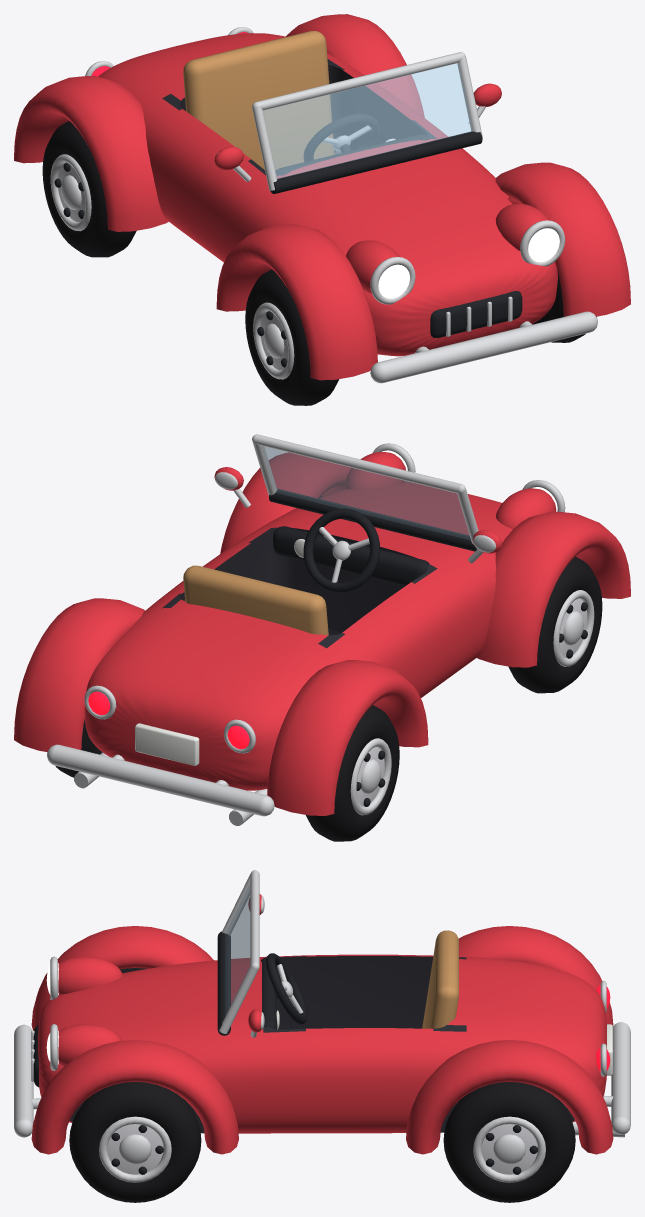
File: carro.glb
3 renders of one model, top to bottom at view 1: azimuth 30°, elevation 25°; view 2: azimuth 150°, elevation 25°; view 3: azimuth 270°, elevation 25°, orthographic. The views are drawn at different scales.
Parts seen in each view (by area): view 1: Carroceria, Parabrisas, Guardabarros_FR, Asiento_Respaldo, Guardabarros_RR, Guardabarros_FL, Parabrisas_Marco, Rueda_RR, Rueda_FR, Parachoques_Delantero, Guardabarros_RL, Parrilla (+11 smaller); view 2: Carroceria, Guardabarros_RR, Guardabarros_FR, Guardabarros_RL, Parabrisas, Rueda_FR, Rueda_RR, Parabrisas_Marco, Asiento_Respaldo, Parachoques_Trasero, Guardabarros_FL, Tablero (+6 smaller); view 3: Carroceria, Rueda_FL, Rueda_RL, Guardabarros_FL, Guardabarros_RL, Guardabarros_FR, Guardabarros_RR, Parabrisas_Marco, Asiento_Respaldo, Parabrisas, Parachoques_Trasero, Parachoques_Delantero (+4 smaller).
Part boxes in pixels (x1,y1,x2,y2): Carroceria: (98, 33, 557, 356); Parabrisas: (263, 63, 472, 178); Guardabarros_FR: (216, 224, 377, 380); Asiento_Respaldo: (183, 31, 334, 169); Guardabarros_RR: (14, 76, 168, 231); Guardabarros_FL: (495, 162, 630, 316); Parabrisas_Marco: (252, 52, 482, 193); Rueda_RR: (42, 121, 136, 257); Rueda_FR: (245, 269, 339, 405); Parachoques_Delantero: (370, 311, 597, 383); Guardabarros_RL: (286, 14, 424, 117); Parrilla: (430, 291, 522, 338); Carroceria: (84, 482, 512, 790); Guardabarros_RR: (267, 660, 428, 815); Guardabarros_FR: (477, 511, 630, 667); Guardabarros_RL: (14, 598, 144, 751); Parabrisas: (262, 446, 470, 539); Rueda_FR: (508, 556, 602, 693); Rueda_RR: (306, 705, 399, 841); Parabrisas_Marco: (252, 434, 478, 551); Asiento_Respaldo: (183, 565, 328, 635); Parachoques_Trasero: (47, 744, 274, 816); Guardabarros_FL: (220, 452, 350, 553); Tablero: (273, 526, 429, 585); Carroceria: (38, 954, 606, 1133); Rueda_FL: (69, 1081, 201, 1202); Rueda_RL: (443, 1081, 575, 1202); Guardabarros_FL: (31, 1040, 238, 1154); Guardabarros_RL: (406, 1040, 613, 1154); Guardabarros_FR: (31, 926, 213, 1030); Guardabarros_RR: (459, 926, 613, 1025); Parabrisas_Marco: (217, 870, 259, 1035); Asiento_Respaldo: (422, 930, 458, 1028); Parabrisas: (225, 884, 250, 1015); Parachoques_Trasero: (603, 1022, 630, 1134); Parachoques_Delantero: (14, 1024, 40, 1137).
Bounding box in the file's own units: 1.24 × 0.9053 × 2.24.
